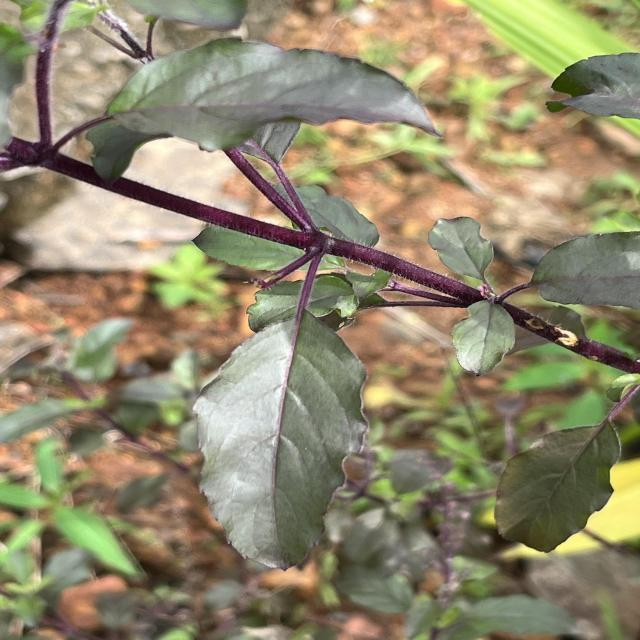Ocimum tenuiflorum: (190, 306, 370, 572), (492, 418, 624, 555)
